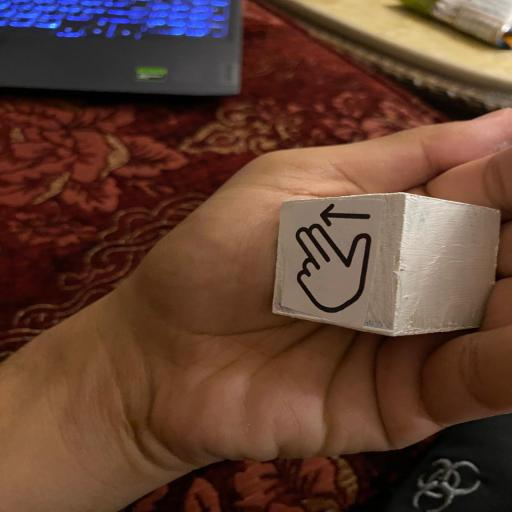LeftSwipe: (270, 192, 502, 337)
